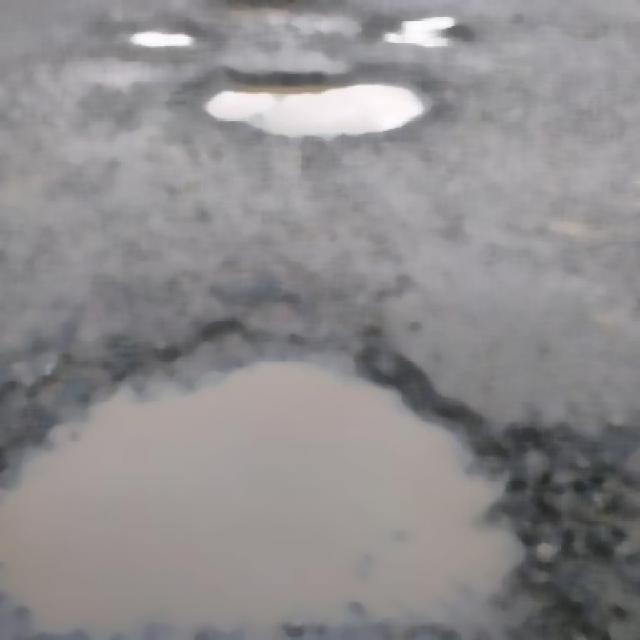Pothole: (0, 312, 609, 638), (202, 52, 446, 170)
